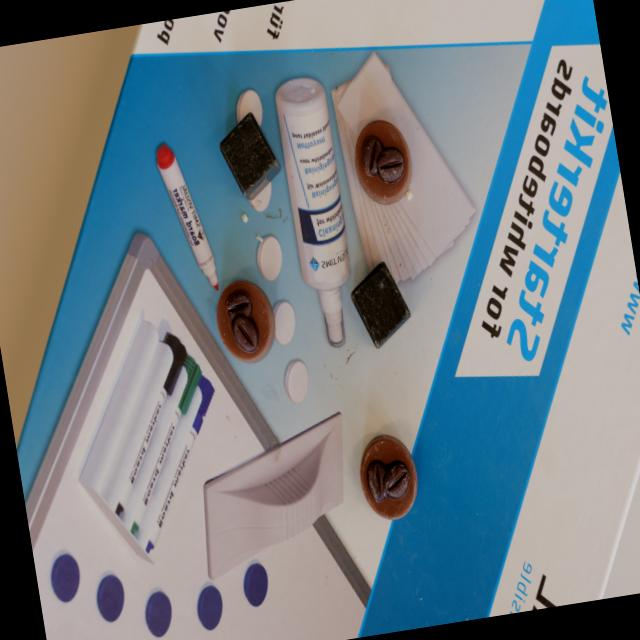Arabia: (348, 114, 417, 211), (355, 428, 424, 524), (210, 276, 280, 366)
